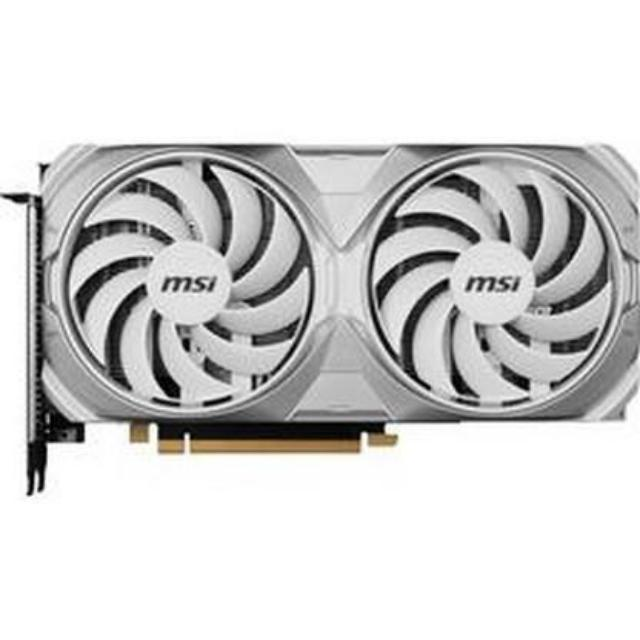GPU: (20, 138, 640, 464)
